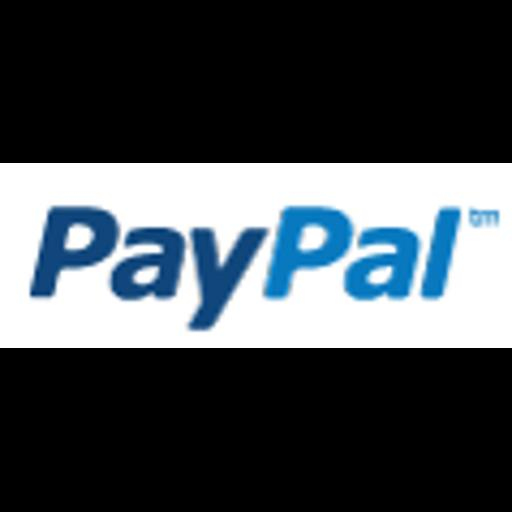PayPal: (0, 163, 512, 348)
